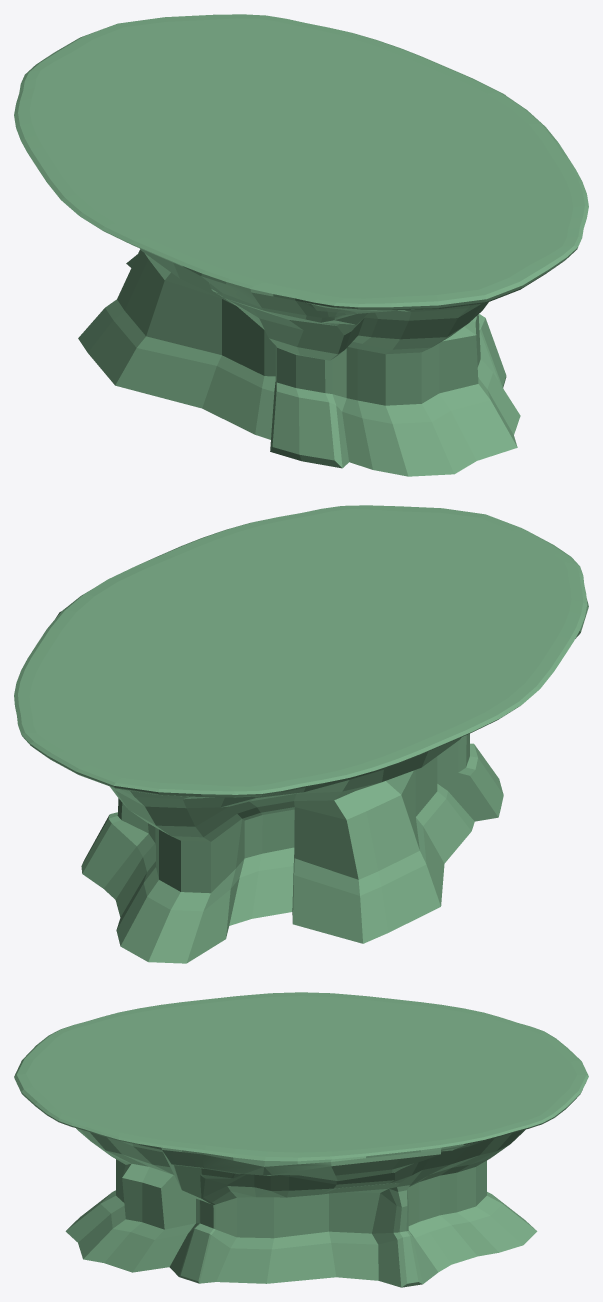
The model's file is ThePlateau_v2.2.fbx.
3 views of the same model, one above another, from view 1: azimuth 30°, elevation 25°; view 2: azimuth 150°, elevation 25°; view 3: azimuth 270°, elevation 25° (orthographic). The views are drawn at different scales.
Parts seen in each view (by area): view 1: ThePlateau_v7; view 2: ThePlateau_v7; view 3: ThePlateau_v7.
Boxes of the visible parts, left/top/right/bottom form: ThePlateau_v7: left=14, top=14, right=588, bottom=476; ThePlateau_v7: left=14, top=505, right=588, bottom=963; ThePlateau_v7: left=14, top=992, right=588, bottom=1287.
Size of the model in its own units: 5.04 by 2.2 by 7.28.
